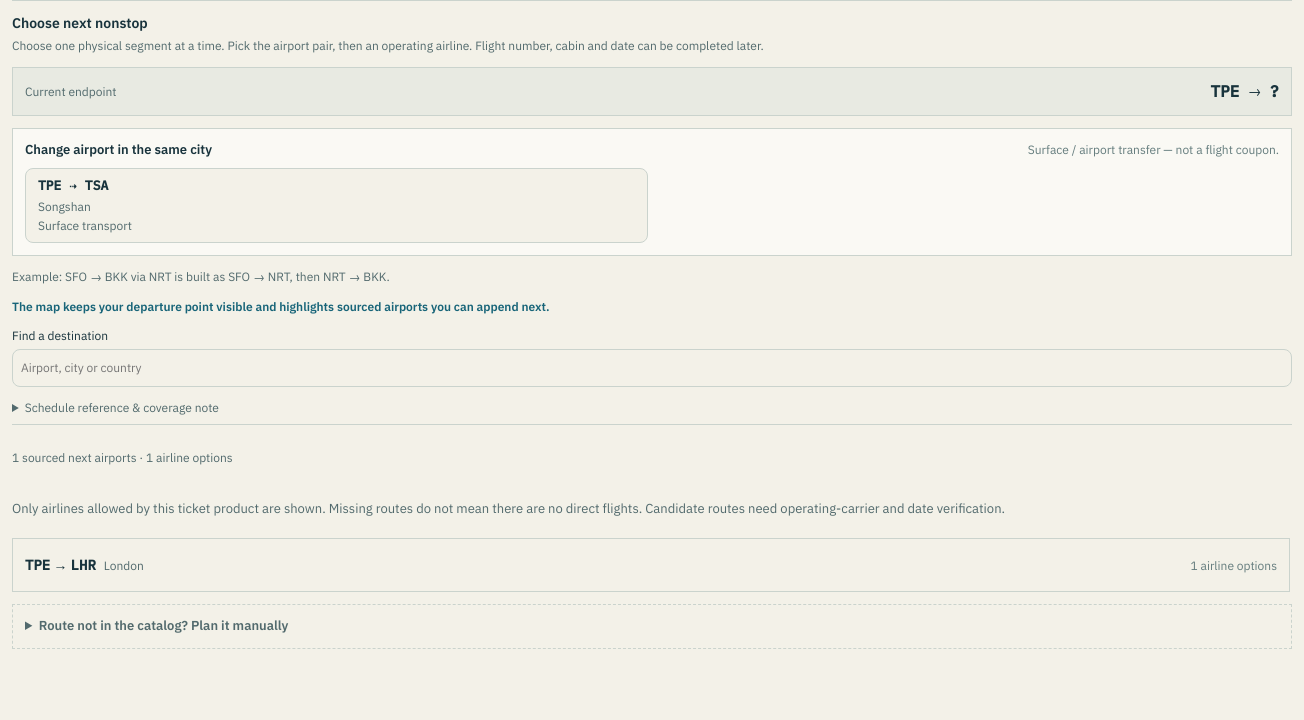
it: DestinationsPanel · nonblocking next-leg workflow › confirmed route-level flight number is selectable before dated schedule verification
Click the button "TPE → LHR London 1 airline options" at [124, 565], box [13,539,1289,591]
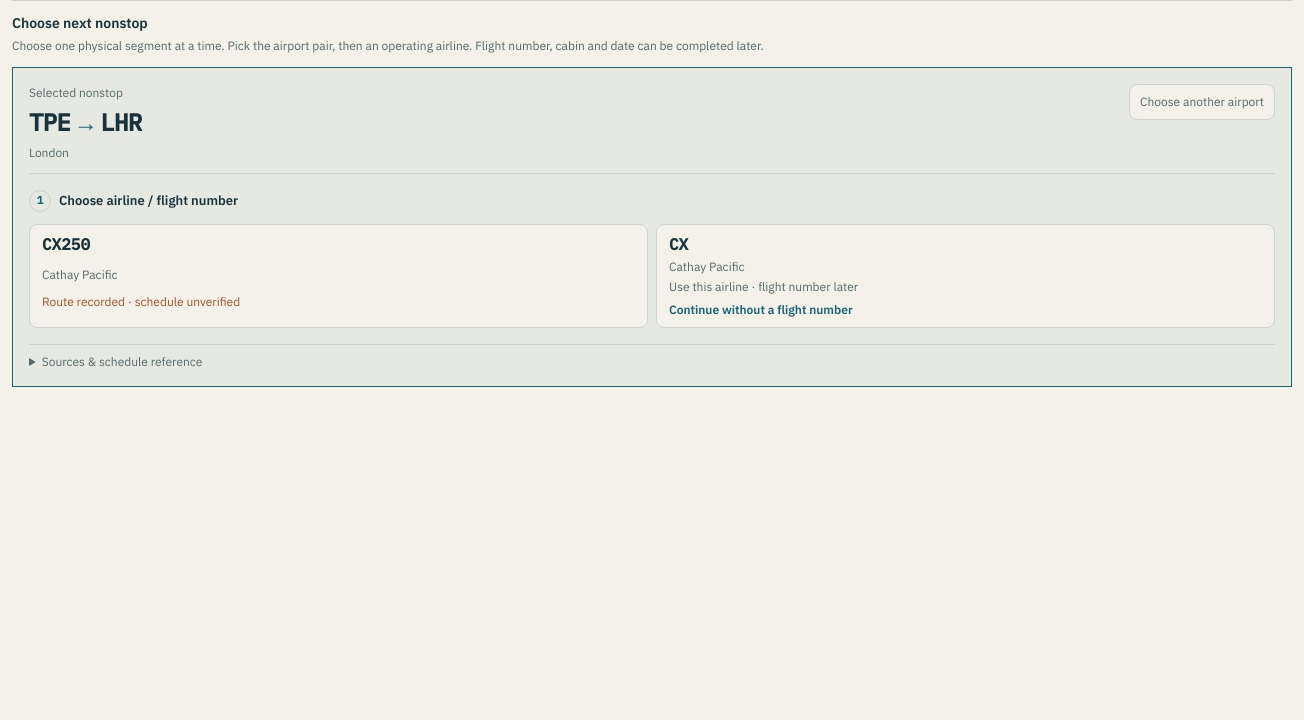
Expected: the button "CX250 Cathay Pacific Route recorded · schedule unverified" is shown, [29,224,648,328]
